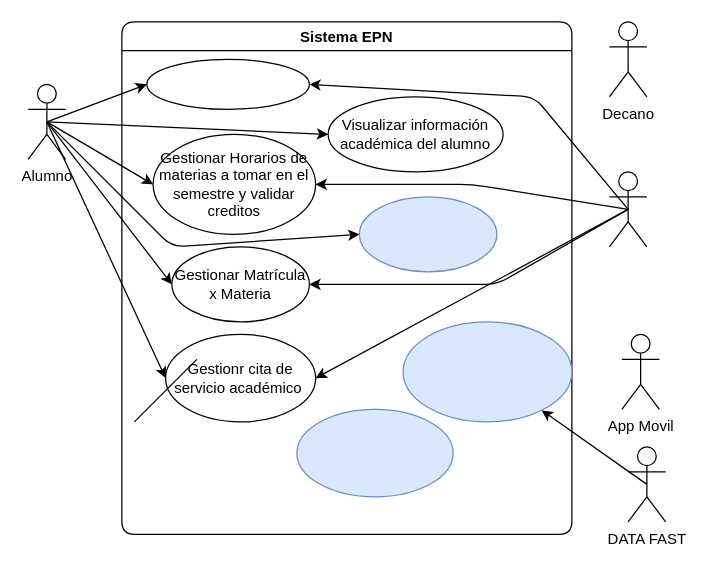
Some shapes in this 708 by 570 pixel diagram are drawn without their labels. Each missing label, with the box of its shape:
Pagar matrícula en el sistema con trjeta de crédito: (402, 321, 572, 422)
Pagar matrícula en tesoreria en efectivo: (296, 408, 453, 497)
SAEW: (608, 171, 647, 247)
Tramitar Certificado académico: (146, 58, 309, 109)
Visualizar comprobrante d la matrícula o pagar la matrícula: (358, 196, 497, 272)
